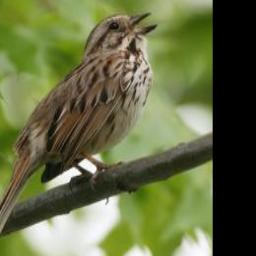Sparrow: (0, 7, 161, 256)
